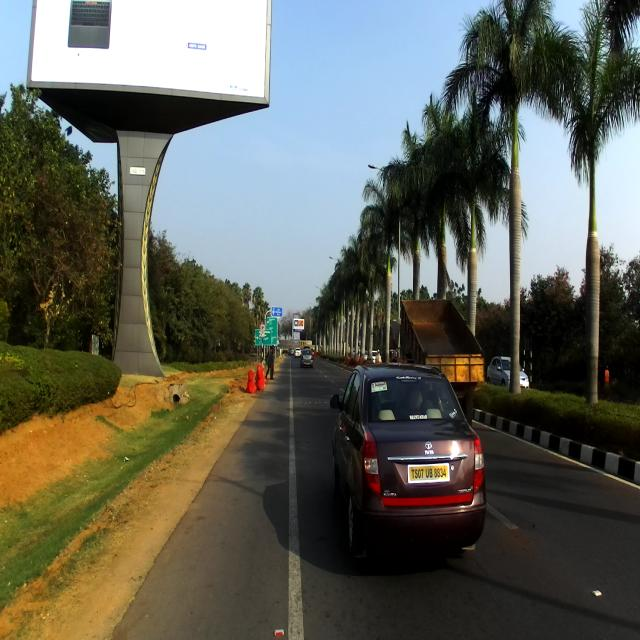car ahead at: (326, 348, 500, 581)
